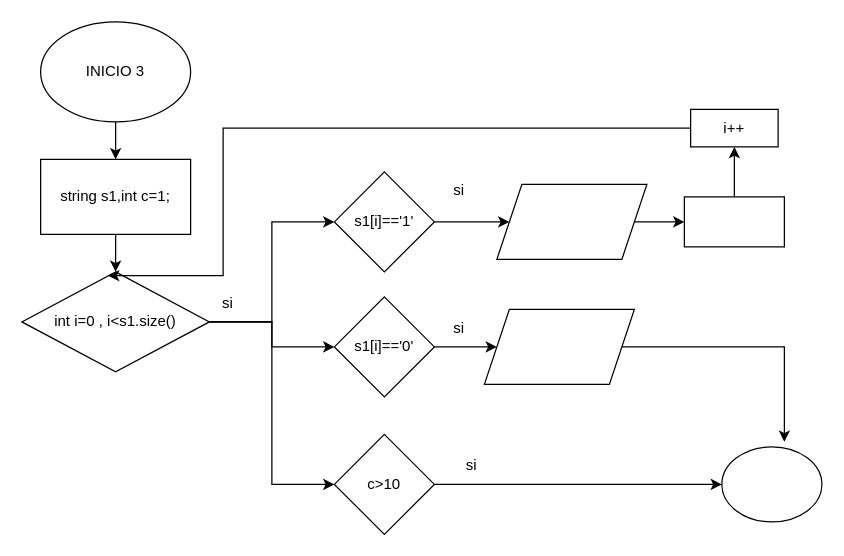
Some shapes in this 844 by 556 pixel diagram are drawn without their labels. Each missing label, with the centre of its shape:
"c++" goes at point 733,221.
"FIN" goes at point 771,484.
"mostrar No cake :(" goes at point 558,346.
"mostrar Om-nom-nom :P" goes at point 571,221.
